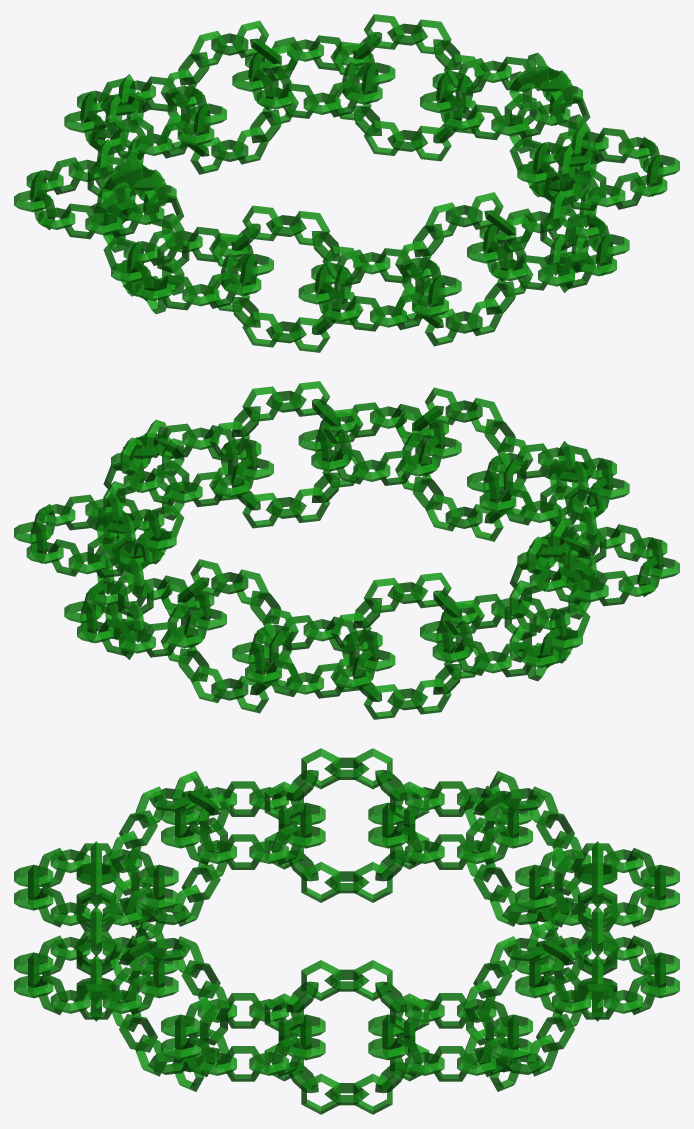
File: fractalregulartetragonaltoroid2.glb
3 renders of one model, top to bottom at view 1: azimuth 30°, elevation 25°; view 2: azimuth 150°, elevation 25°; view 3: azimuth 270°, elevation 25°, orthographic. The views are drawn at different scales.
Size of the model in its own units: 10.73 by 2.73 by 10.63.
